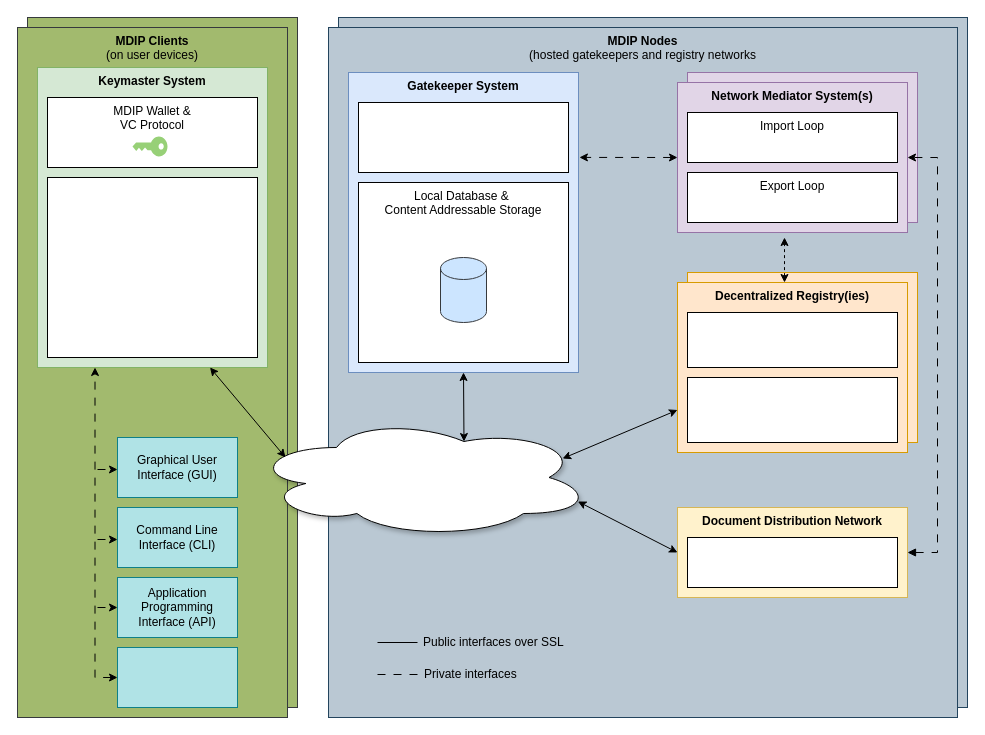
Image size: 985x735. Some labels were removed from this diagram. Each missing label, with the centre of its shape:
Blockchain Ledger: the point at 792,409
DID Protocol: the point at 463,137
DID(s) (local wallet content): the point at 152,267
Distribution Protocol: the point at 792,562
Ledger Wallet: the point at 792,340
Native SDKs: the point at 177,677
Network: the point at 422,478
